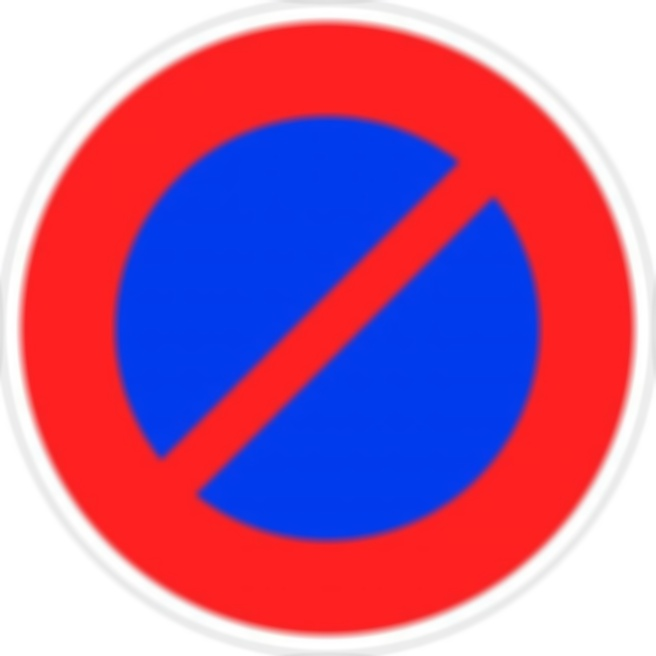Prohibition_sign: (1, 3, 656, 651)
